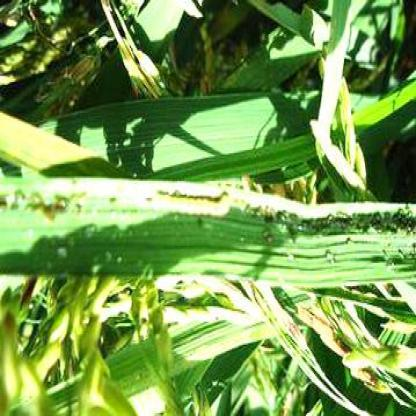leaf-folder: (122, 179, 242, 231)
